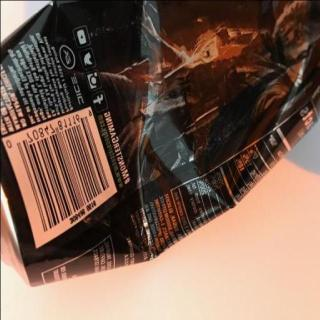Anorganik: (3, 1, 320, 291)
